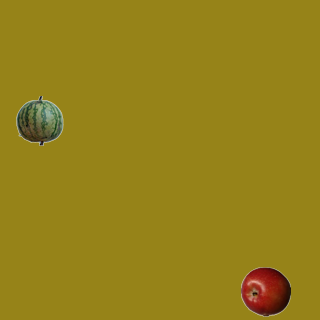Apple Braeburn: (240, 266, 290, 316)
Watermelon: (14, 95, 64, 145)
